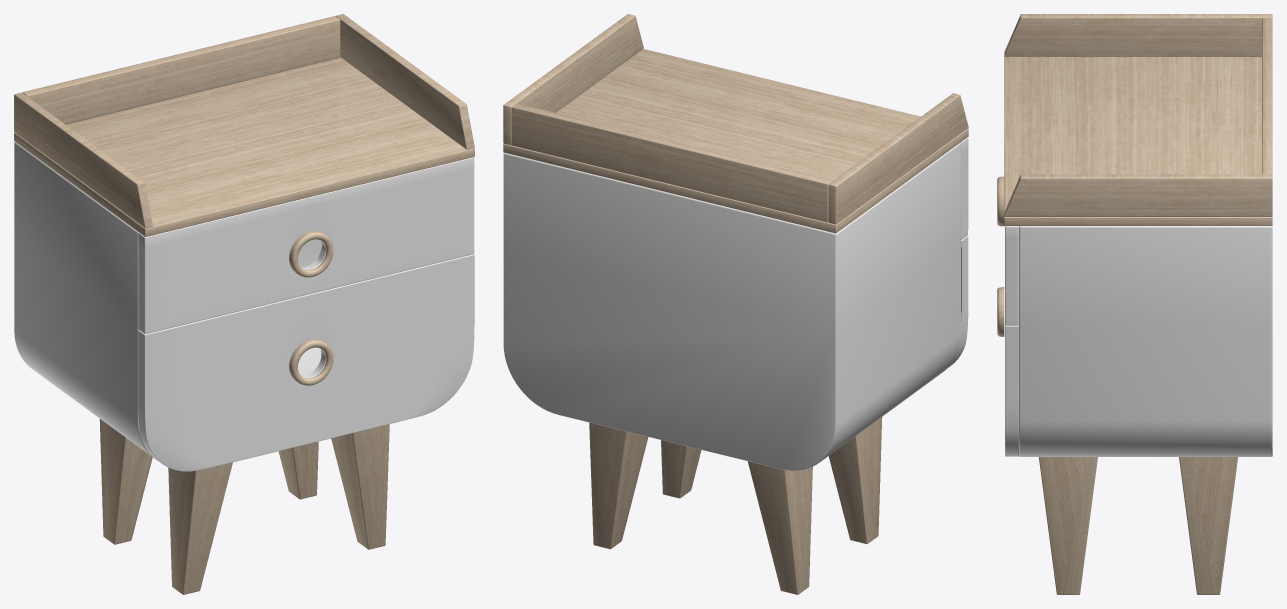
File: l_night_table.gltf
3 views of the same model, side by side, from view 1: azimuth 30°, elevation 25°; view 2: azimuth 150°, elevation 25°; view 3: azimuth 270°, elevation 25° (orthographic). The views are drawn at different scales.
Parts seen in each view (by area): view 1: Mesh10; view 2: Mesh10; view 3: Mesh10.
Part boxes in pixels (<box>): Mesh10: <box>14,14,474,594</box>; Mesh10: <box>503,14,968,594</box>; Mesh10: <box>997,14,1272,594</box>.
Bounding box in the file's own units: 0.42 × 0.5349 × 0.2975.
1 material, 1 textured.
